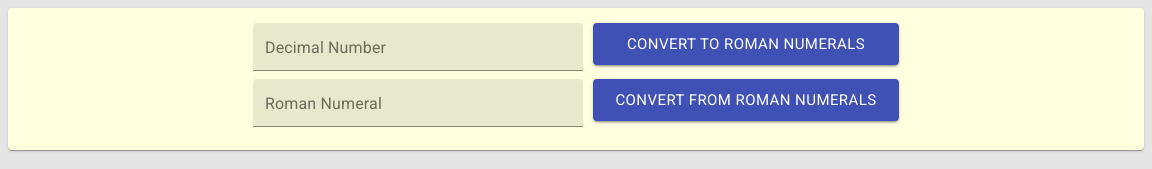
it: integration Tests for calculator component › Inputs a number into the roman numeral field and convert
In the field labelled "Roman Numeral": (418, 103) [253,79,583,127], type "MCCXXXIV"
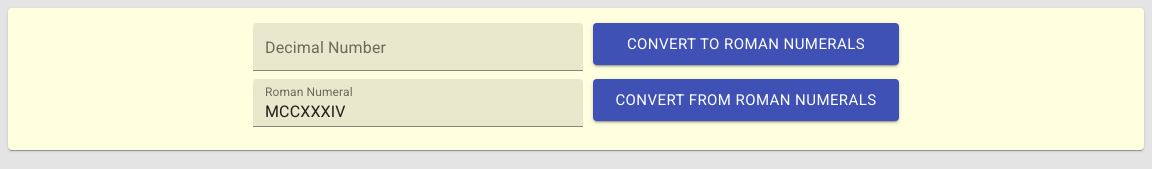
Click the button with test id "roman-convert-button": (746, 100) [593,79,899,121]
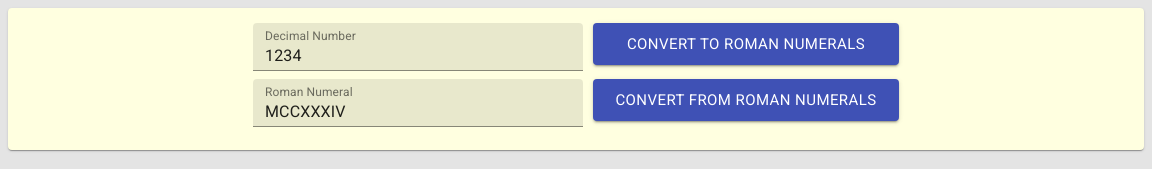
Expected: the number field labelled "Decimal Number" holds "1234", [253,23,583,71]
